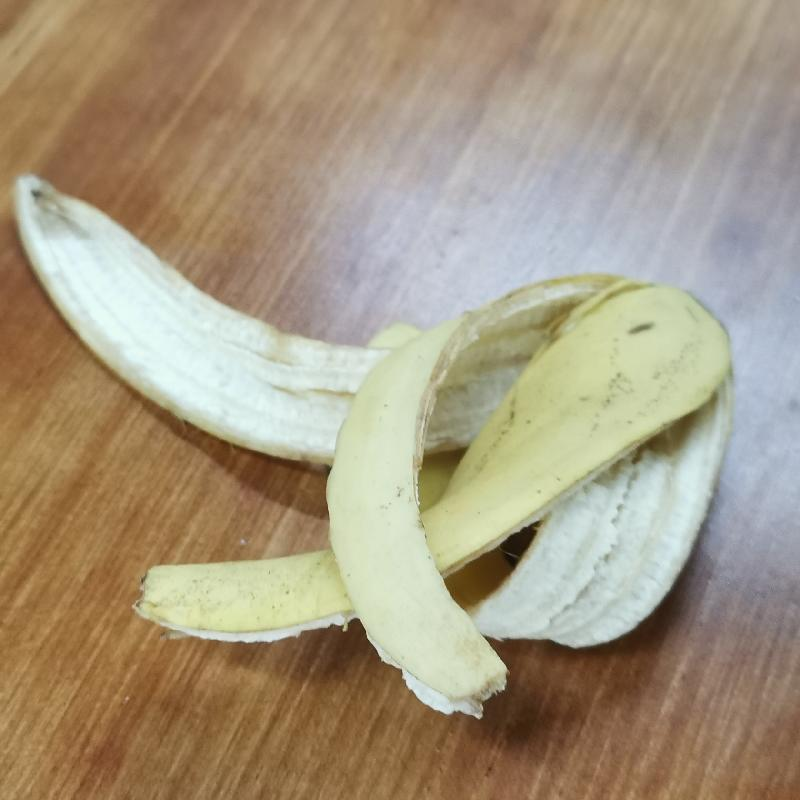bananas: (8, 165, 740, 719)
